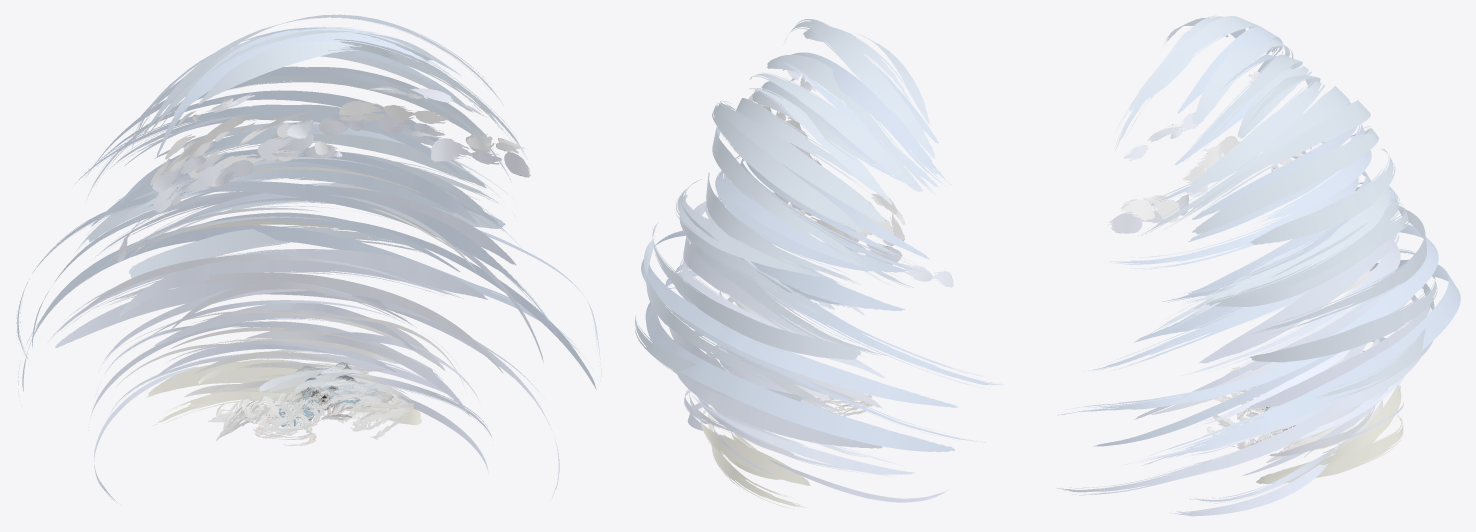
The model's file is test3noorig.glb.
3 renders of one model, left to right at view 1: azimuth 30°, elevation 25°; view 2: azimuth 150°, elevation 25°; view 3: azimuth 270°, elevation 25°, orthographic. The views are drawn at different scales.
Visible parts, largest first — view 1: brush_Ink_g0_b2_4, brush_Ink_g0_b1_3, brush_ThickPaint_g0_b0_5; view 2: brush_Ink_g0_b2_4, brush_Ink_g0_b1_3, brush_ThickPaint_g0_b0_5; view 3: brush_Ink_g0_b2_4, brush_Ink_g0_b1_3, brush_ThickPaint_g0_b0_5.
Boxes of the visible parts, <box> form: brush_Ink_g0_b2_4: <box>16,14,601,497</box>; brush_Ink_g0_b1_3: <box>88,283,493,504</box>; brush_ThickPaint_g0_b0_5: <box>233,386,414,445</box>; brush_Ink_g0_b2_4: <box>634,19,1004,452</box>; brush_Ink_g0_b1_3: <box>684,344,948,509</box>; brush_ThickPaint_g0_b0_5: <box>816,395,874,416</box>; brush_Ink_g0_b2_4: <box>1057,15,1460,495</box>; brush_Ink_g0_b1_3: <box>1149,330,1404,516</box>; brush_ThickPaint_g0_b0_5: <box>1206,366,1295,452</box>.
Bounding box in the file's own units: 591 × 571 × 502.
Materials: 5 (4 with a texture image).
